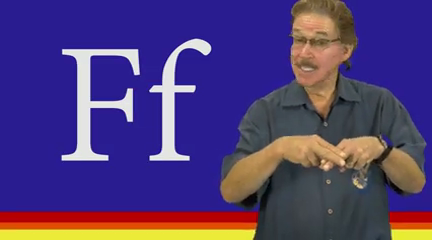F: (283, 126, 381, 178)
